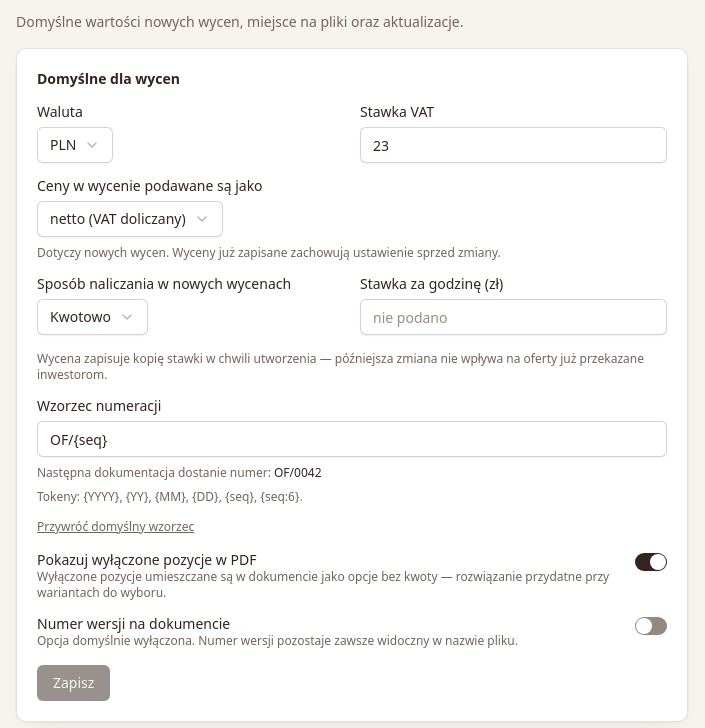
Test: Ustawienia → Aplikacja: wyceny › przywracanie domyslnego wzorca pokazuje sie tylko, gdy jest co przywracac
Click the button "Przywróć domyślny wzorzec".
click(116, 527)  # box [37,519,194,535]
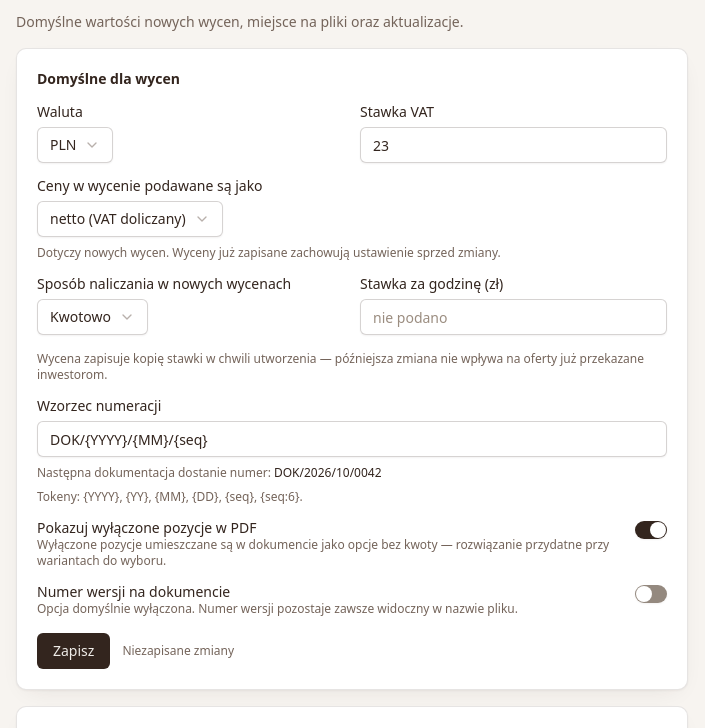
Expected: the field labelled "Wzorzec numeracji" holds "DOK/{YYYY}/{MM}/{seq}", [37,421,667,457]
